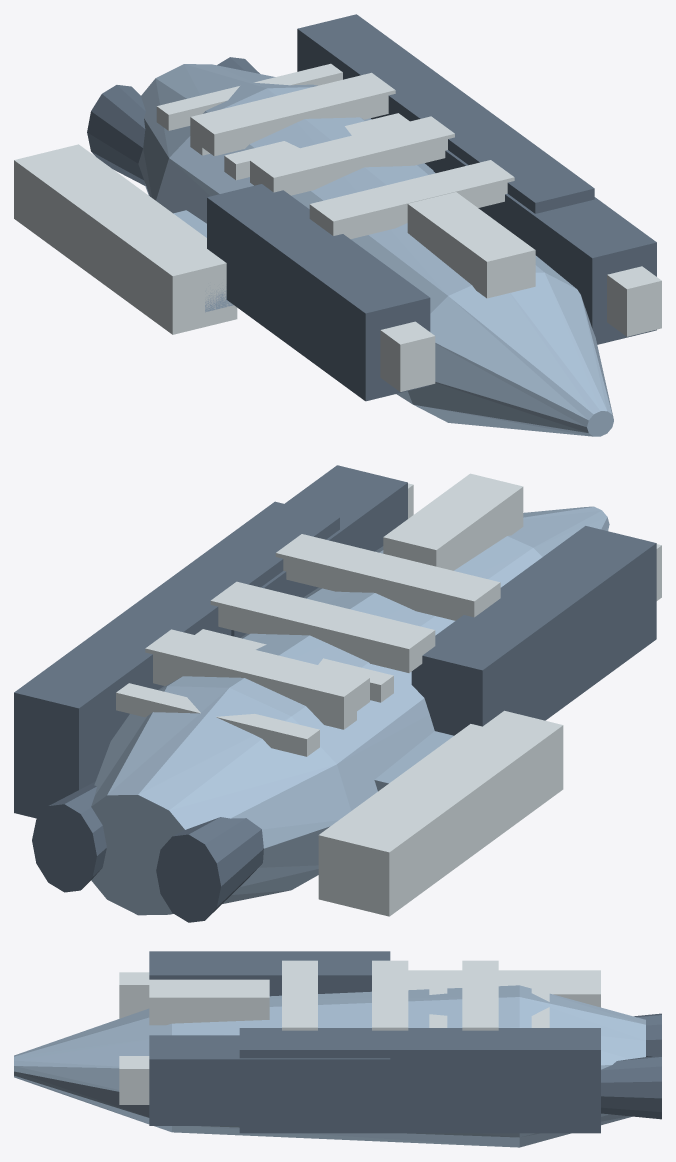
3 renders of one model, top to bottom at view 1: azimuth 30°, elevation 25°; view 2: azimuth 150°, elevation 25°; view 3: azimuth 270°, elevation 25°, orthographic. The views are drawn at different scales.
Bounding box in the file's own units: 2.15 × 1.16 × 4.61.
